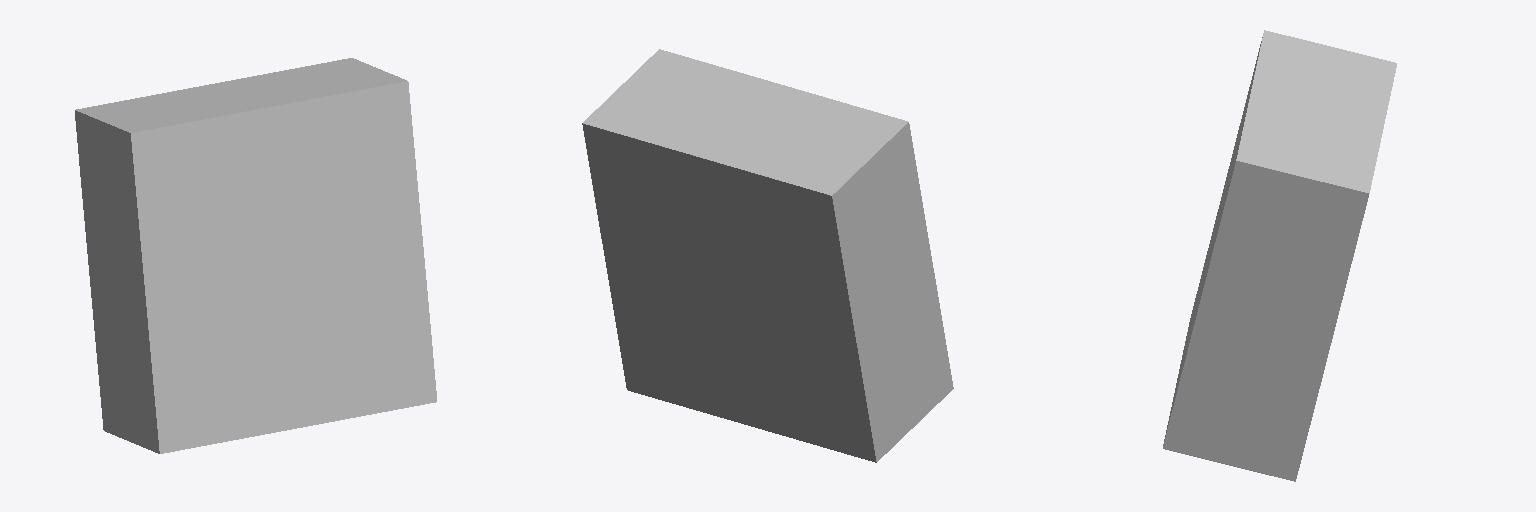
The model's file is cricket_brakelight_L.obj.
The picture shows the model from 3 angles: view 1: azimuth 30°, elevation 25°; view 2: azimuth 150°, elevation 25°; view 3: azimuth 270°, elevation 25°; orthographic projection.
Parts seen in each view (by area): view 1: Brakelight_L; view 2: Brakelight_L; view 3: Brakelight_L.
Boxes of the visible parts, box(x1,y1,x2,y2) form: Brakelight_L: box(75, 58, 436, 453); Brakelight_L: box(582, 49, 953, 462); Brakelight_L: box(1163, 30, 1396, 481).
Size of the model in its own units: 0.1199 by 0.1308 by 0.0866.